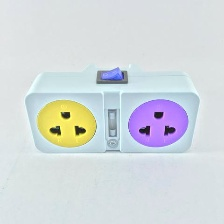three_eye_plug: (21, 56, 203, 157)
